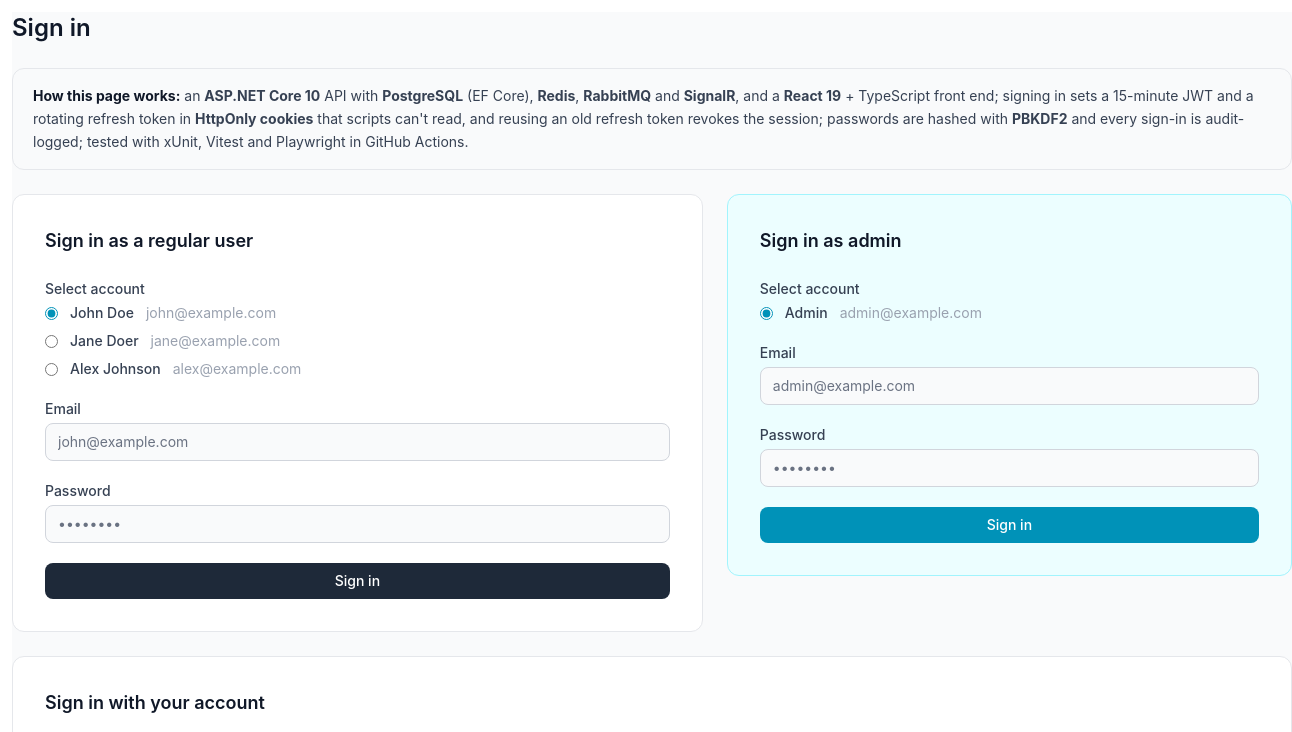
Test: LoginPage › shows the error detail from the response envelope
What coordinates should you click on to do the following:
click the button "Sign in" below "Alex Johnson"
I would click on:
 (357, 581)
Its box is 45,563 -> 670,599.
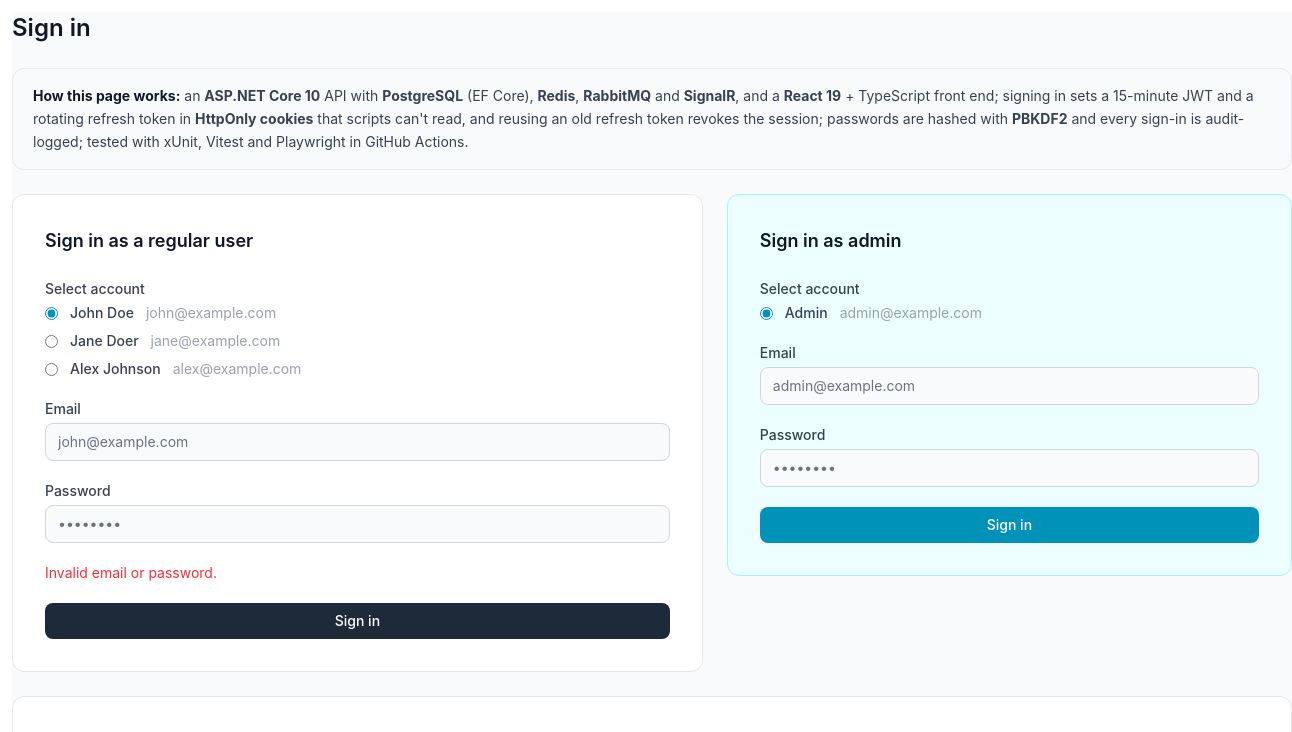
Now the message reads "Invalid email or password.", box 45,564 -> 217,581
